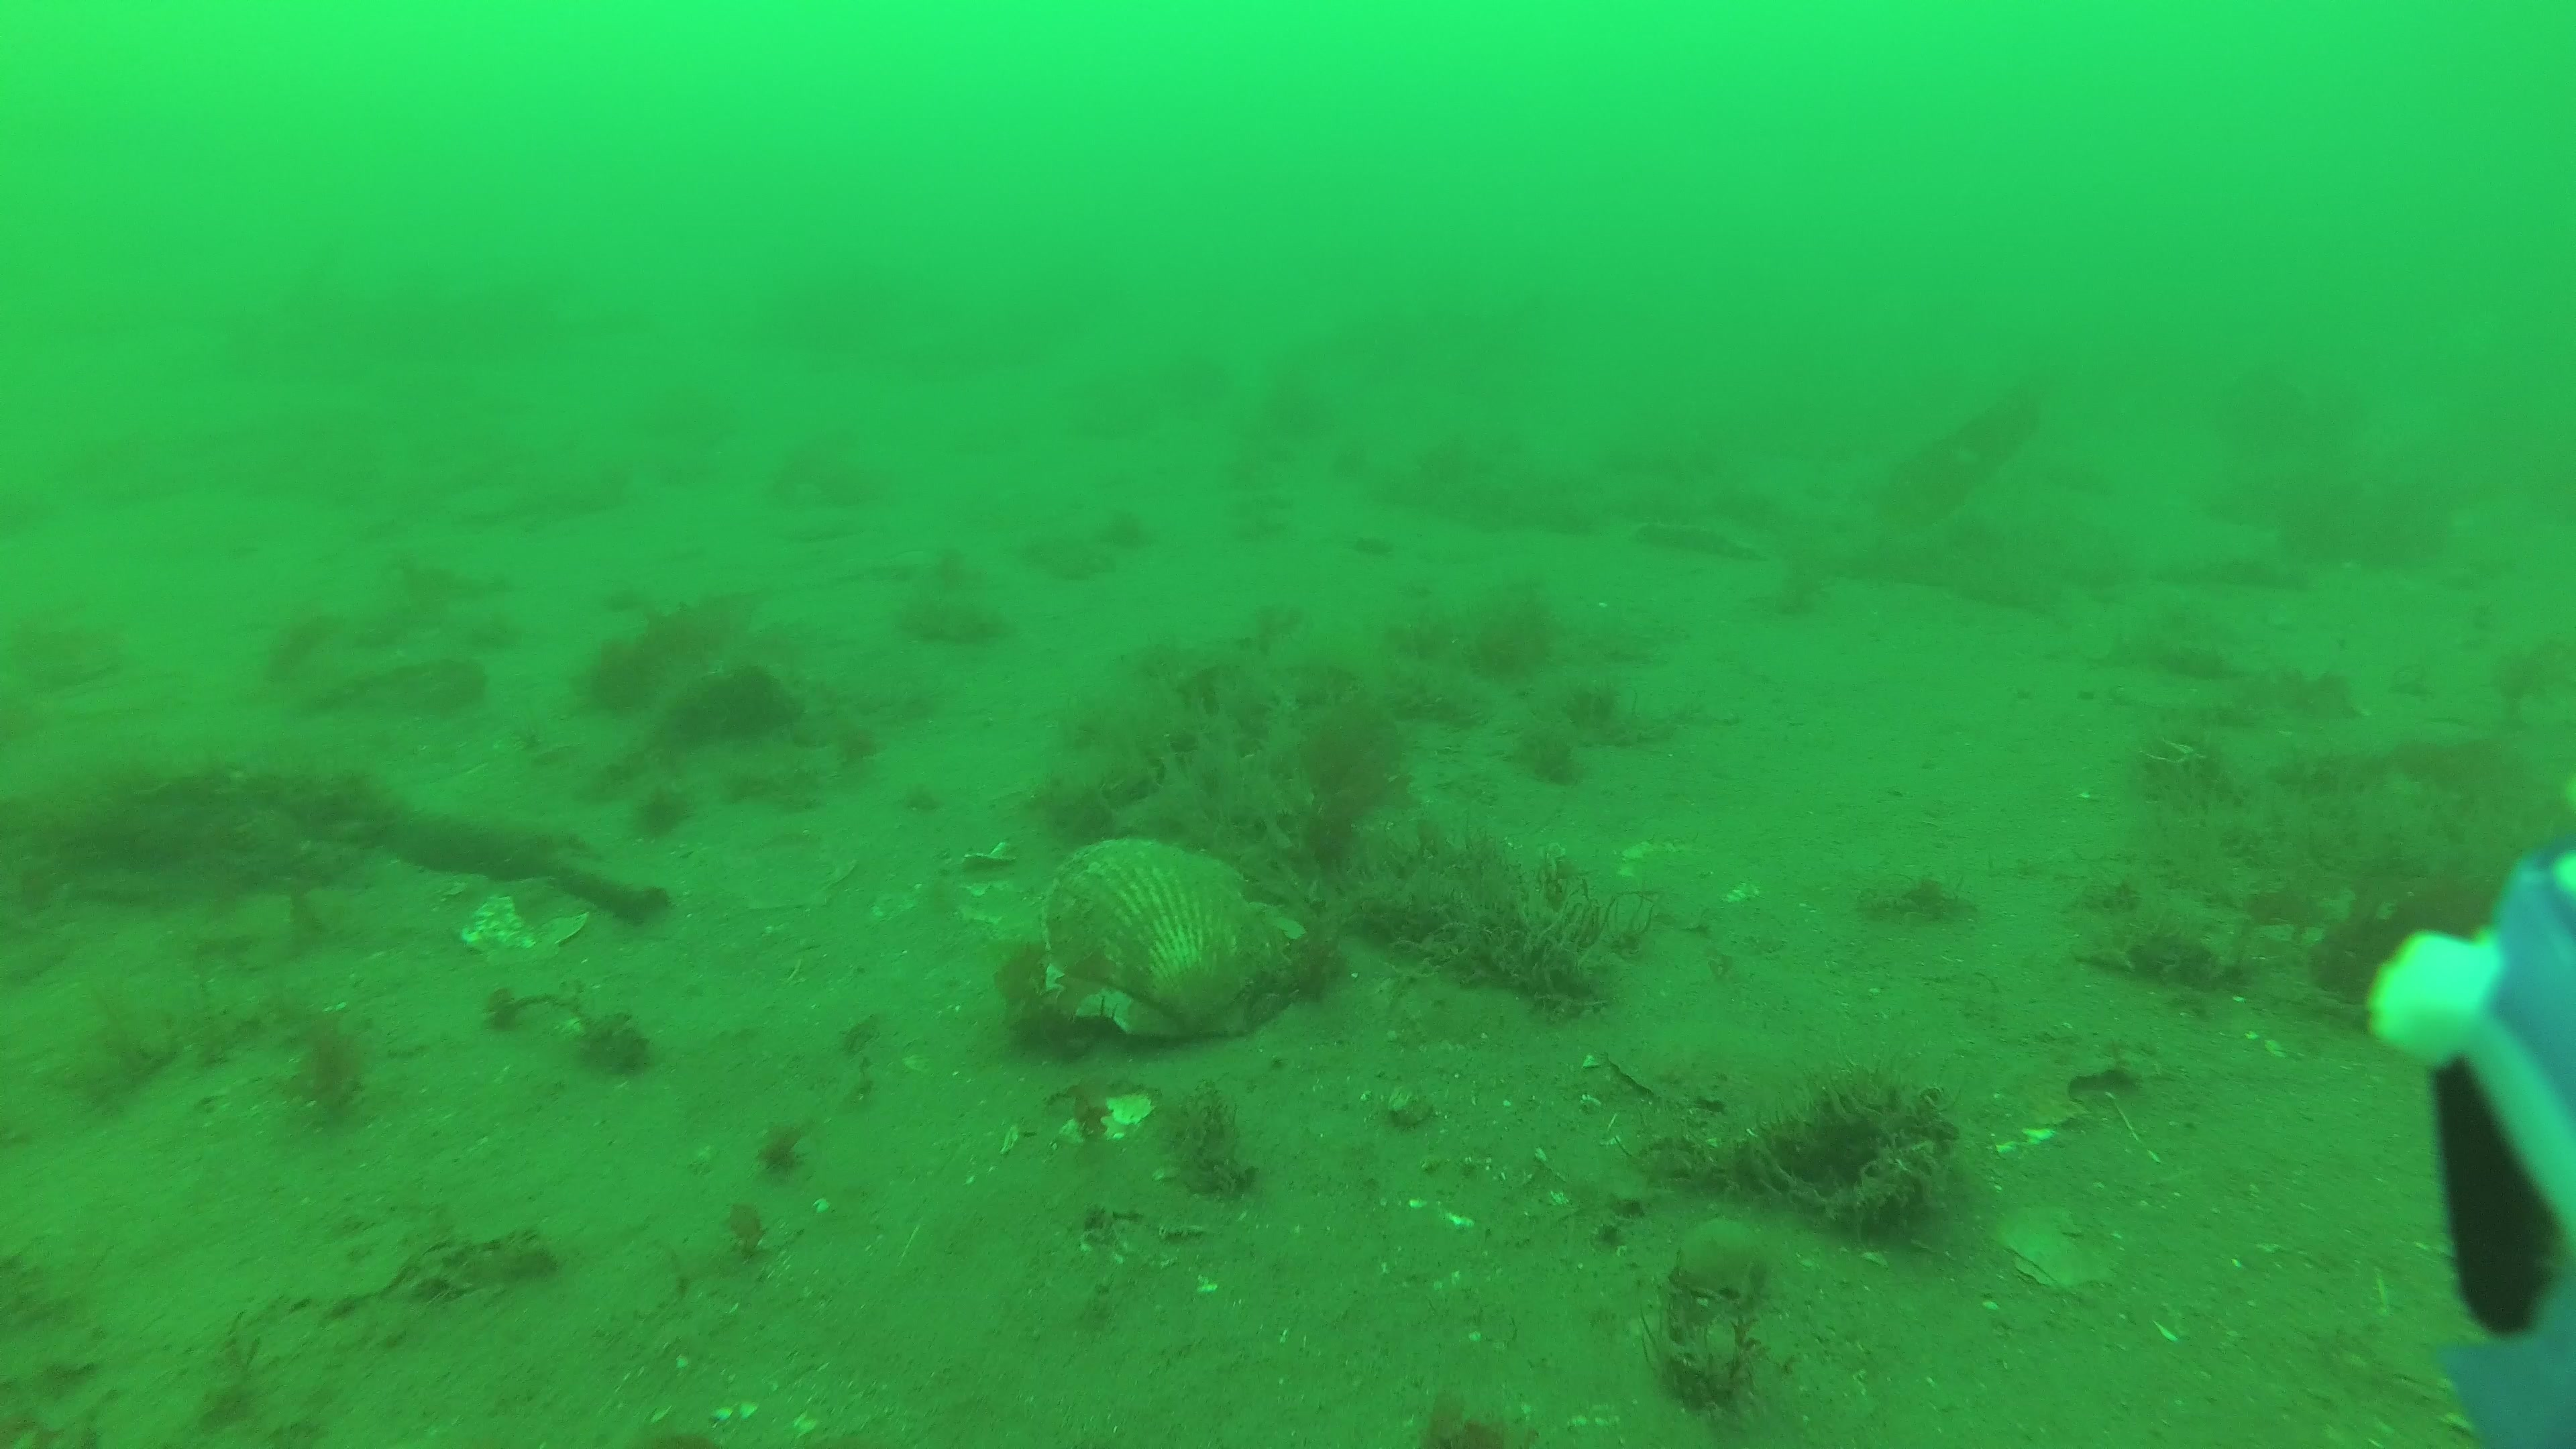scallop: (1033, 830, 1313, 1053)
